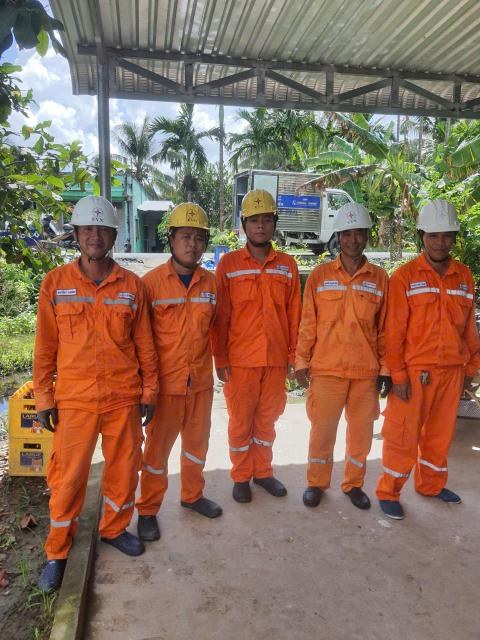helmet: (64, 189, 126, 235), (409, 188, 470, 232), (165, 199, 217, 235), (332, 200, 381, 236), (236, 186, 278, 211)
shoes: (178, 487, 228, 523), (30, 557, 76, 596), (426, 480, 469, 513), (102, 526, 146, 557), (376, 489, 409, 527), (132, 511, 167, 545), (226, 473, 259, 509), (257, 464, 290, 499), (345, 476, 375, 514), (299, 479, 327, 510)
